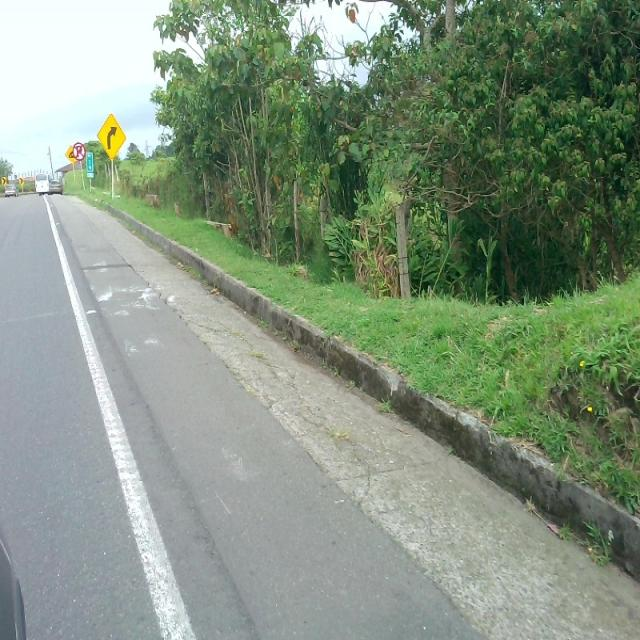DITCH: (82, 86, 638, 639), (60, 193, 639, 638)
